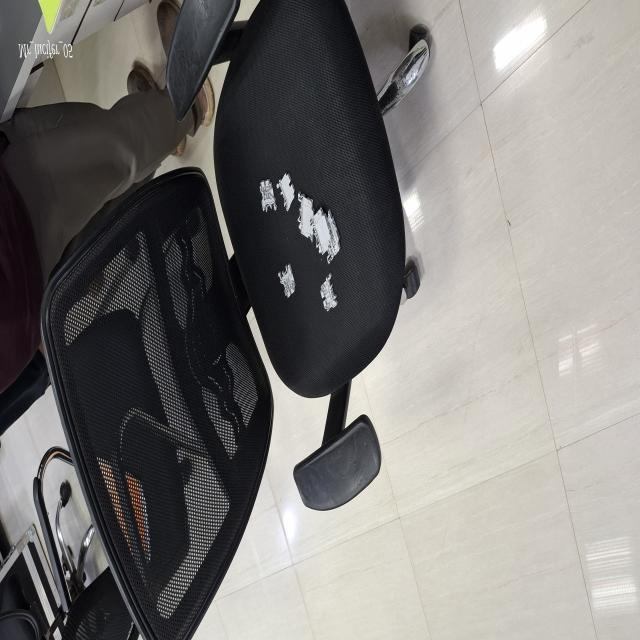Inverted: (276, 170, 296, 213)
Pass: (256, 168, 278, 223)
Reject: (277, 258, 297, 300), (319, 271, 338, 314)
